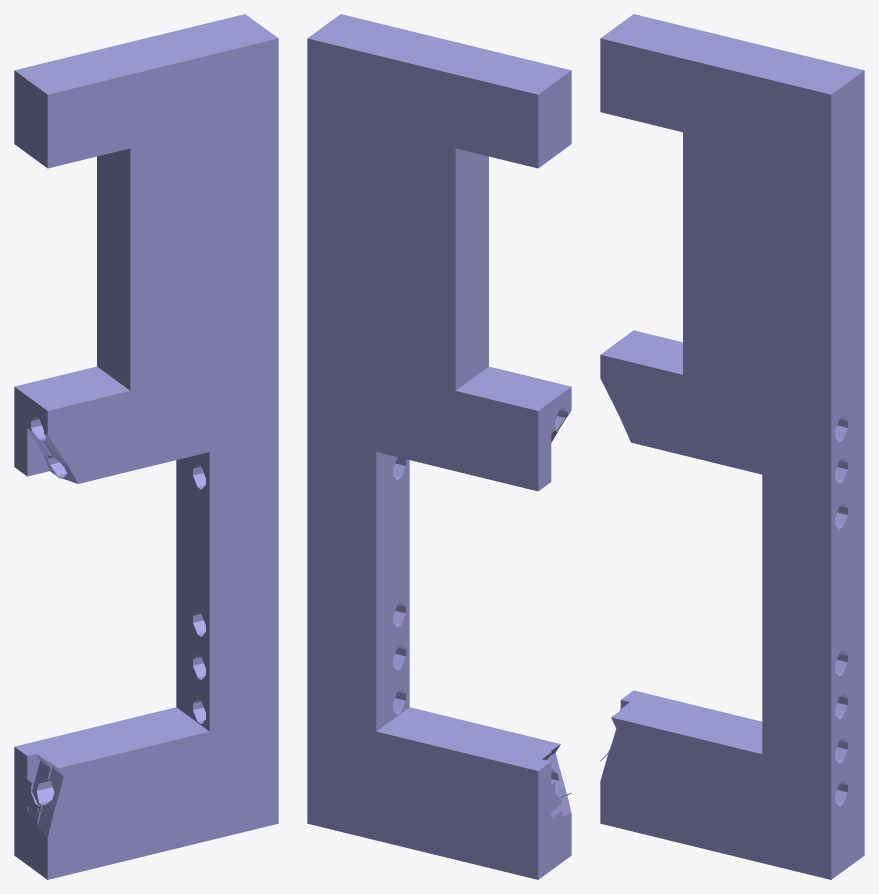
The model's file is Door_wingRight.fbx.
The picture shows the model from 3 angles, left to right: view 1: azimuth 30°, elevation 25°; view 2: azimuth 150°, elevation 25°; view 3: azimuth 330°, elevation 25°; orthographic projection.
Visible parts, largest first — view 1: Door_wingRight; view 2: Door_wingRight; view 3: Door_wingRight.
Part boxes in pixels (x1,y1,x2,y2): Door_wingRight: [14, 14, 278, 879]; Door_wingRight: [307, 14, 571, 879]; Door_wingRight: [600, 14, 864, 879].
Bounding box in the file's own units: 2 × 6.5 × 0.5.
